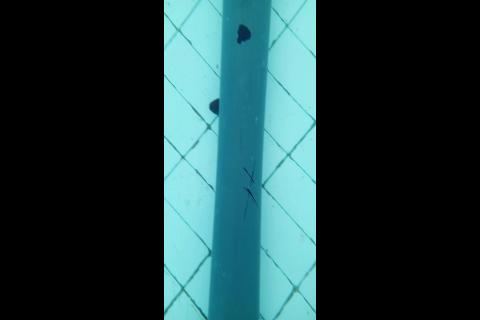kebocoran: (236, 24, 252, 46)
keretakan: (243, 163, 259, 219)
